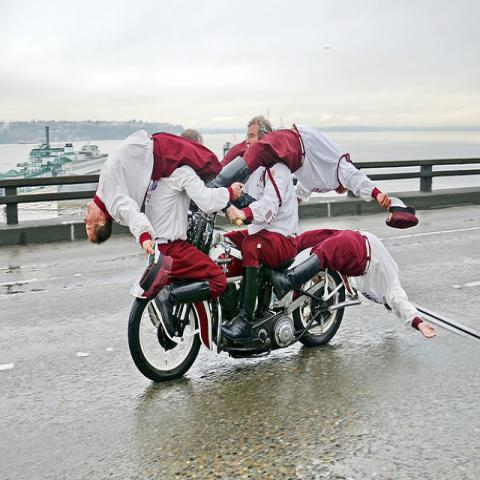motorcycle: (128, 205, 359, 387)
